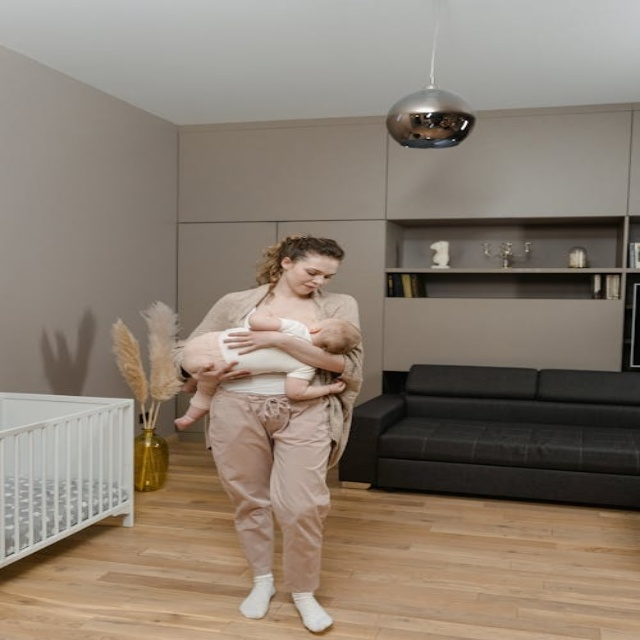Sin_gafas: (300, 263, 337, 281)
Sin_guantes: (188, 361, 251, 384), (224, 330, 283, 354)
Sin_mascara: (292, 281, 319, 295)
